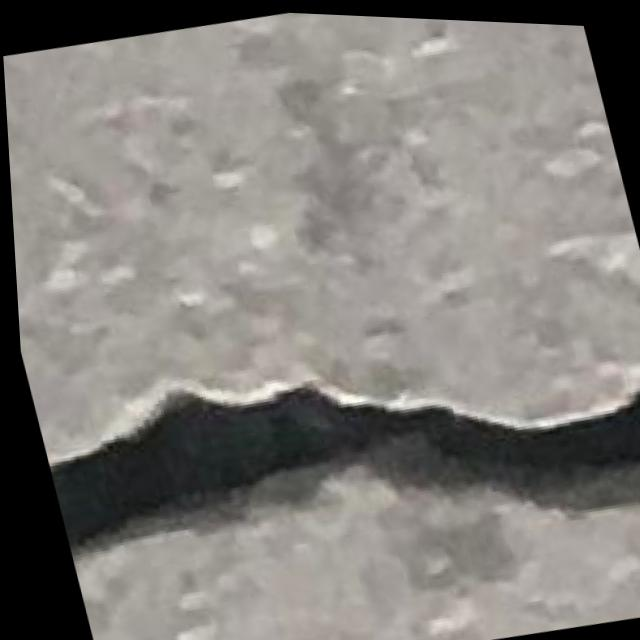Crack: (24, 286, 640, 626)
